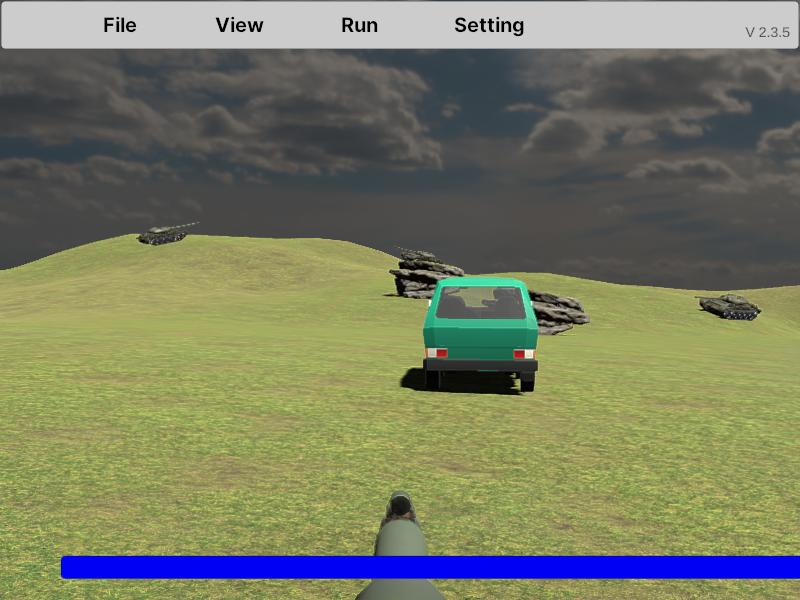Tank: (693, 293, 762, 321), (135, 221, 198, 246)
car: (422, 278, 538, 395)
